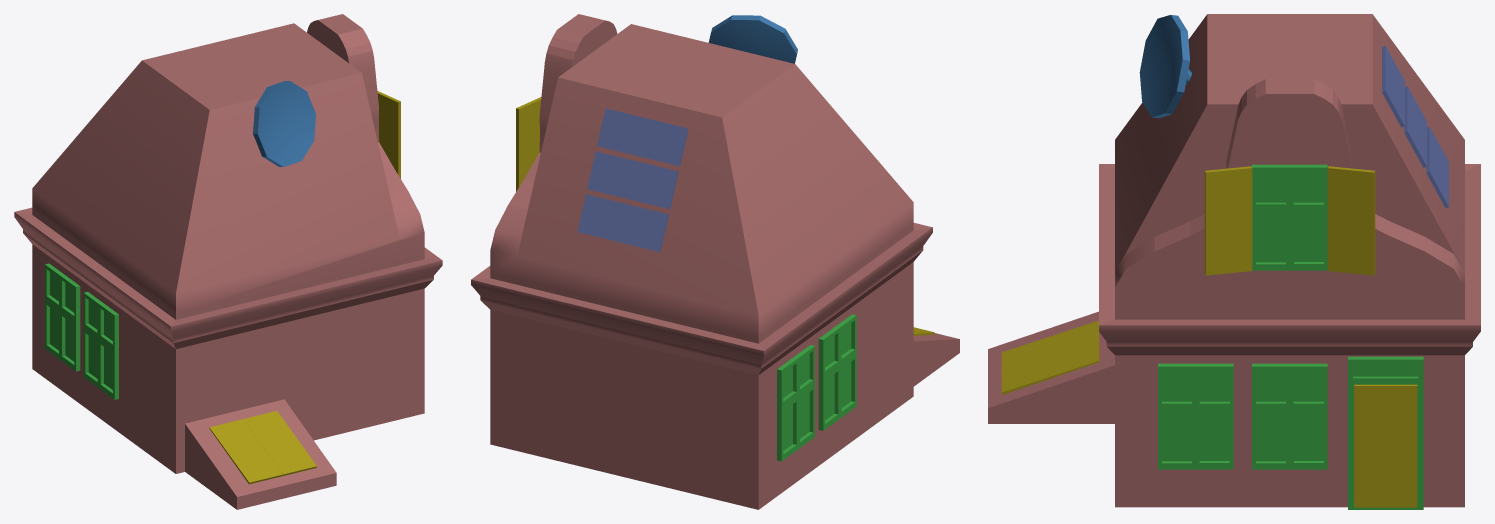
Rendered from House 03.fbx.
3 views of the same model, side by side, from view 1: azimuth 30°, elevation 25°; view 2: azimuth 150°, elevation 25°; view 3: azimuth 270°, elevation 25° (orthographic). The views are drawn at different scales.
Parts seen in each view (by area): view 1: pCube64, pCube83, pCylinder2, pCube75, pCube76, pCube84, pCube85, pCube70; view 2: pCube64, pCube76, pCube75, pCube78, pCube86, pCube87, pCylinder2, pCube71, pCube83; view 3: pCube64, pCube72, pCube66, pCube73, pCube74, pCube83, pCube71, pCube70, pCylinder2, pCube85, pCube65, pCube84 (+4 smaller).
Boxes of the visible parts, x1,y1,x2,y2 form: pCube64: (14, 14, 442, 473); pCube83: (185, 399, 336, 509); pCylinder2: (253, 81, 315, 166); pCube75: (45, 263, 80, 371); pCube76: (83, 291, 118, 399); pCube84: (209, 419, 282, 484); pCube85: (243, 411, 316, 475); pCube70: (377, 91, 400, 178); pCube64: (471, 14, 932, 509); pCube76: (818, 314, 856, 430); pCube75: (777, 345, 814, 461); pCube78: (597, 108, 688, 166); pCube86: (587, 151, 678, 208); pCube87: (577, 194, 668, 251); pCylinder2: (708, 15, 797, 63); pCube71: (516, 97, 541, 191); pCube83: (913, 333, 959, 386); pCube64: (1099, 14, 1480, 507); pCube72: (1252, 363, 1327, 469); pCube66: (1252, 164, 1327, 270); pCube73: (1158, 363, 1233, 469); pCube74: (1354, 384, 1417, 507); pCube83: (988, 311, 1114, 423); pCube71: (1327, 166, 1375, 275); pCube70: (1204, 166, 1252, 275); pCylinder2: (1139, 15, 1190, 118); pCube85: (1001, 340, 1099, 394); pCube65: (1348, 381, 1423, 509); pCube84: (1001, 320, 1099, 372).
Bounding box in the file's own units: 650 × 775 × 833.
